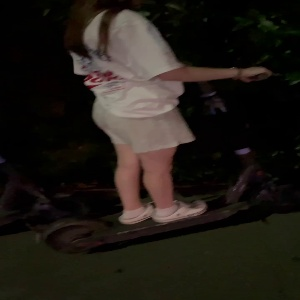human on a scooter: (31, 1, 290, 256)
